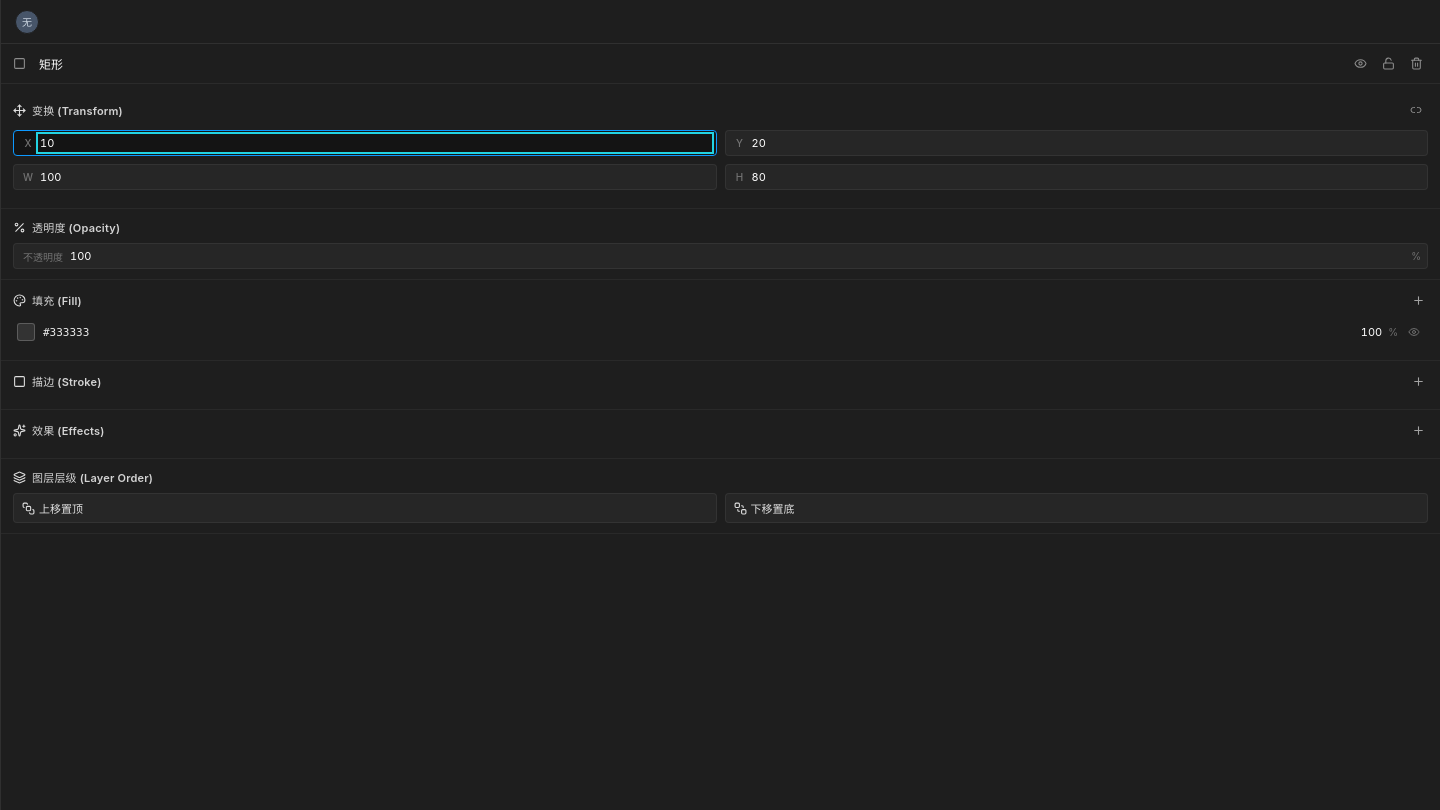
it: InspectorPanel › commits numeric transform edits when Enter blurs the input
Replace the text in the number field named "X 坐标" with "-30" at (375, 143), box x1=40 y1=136 x2=710 y2=150
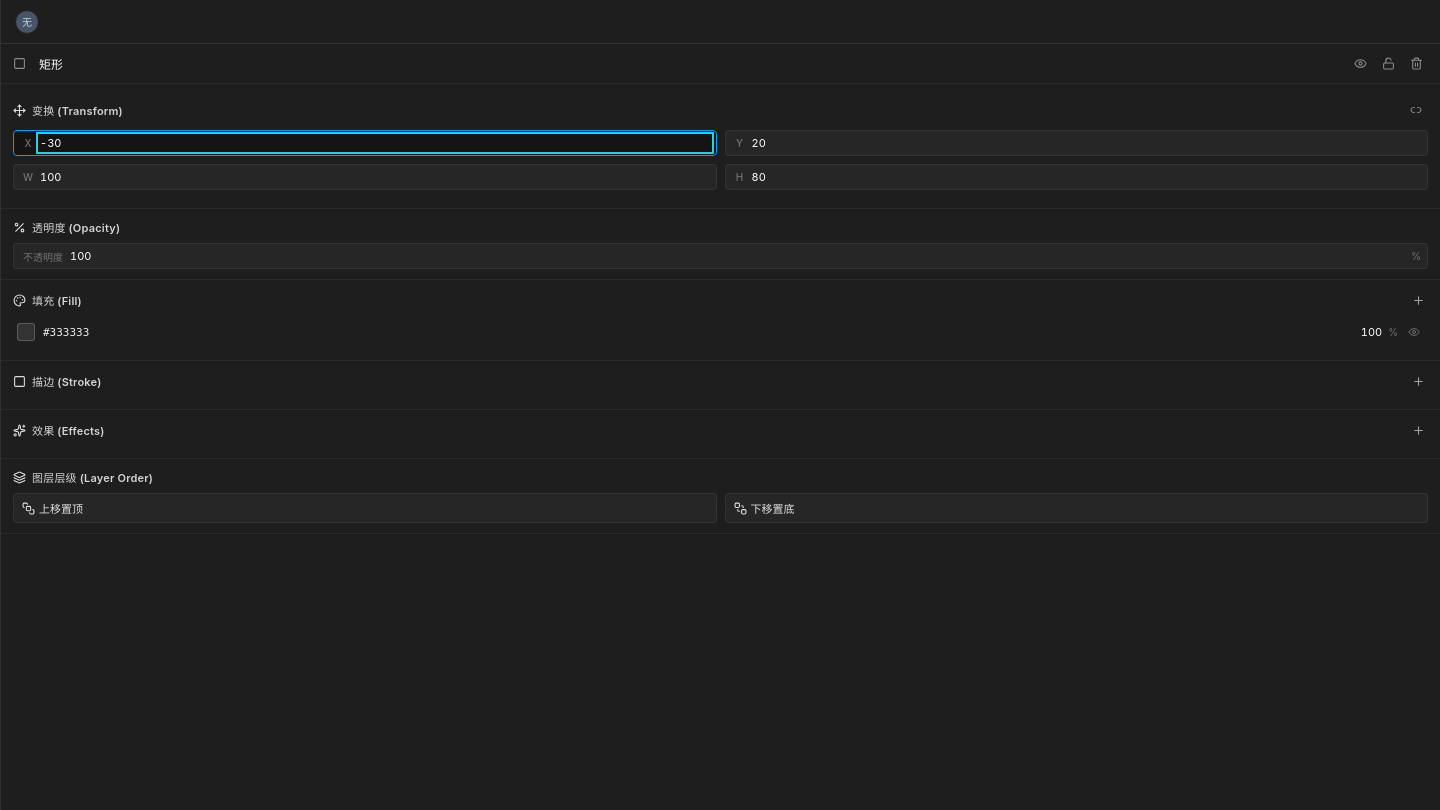
Press Enter in the number field named "X 坐标", box x1=40 y1=136 x2=710 y2=150
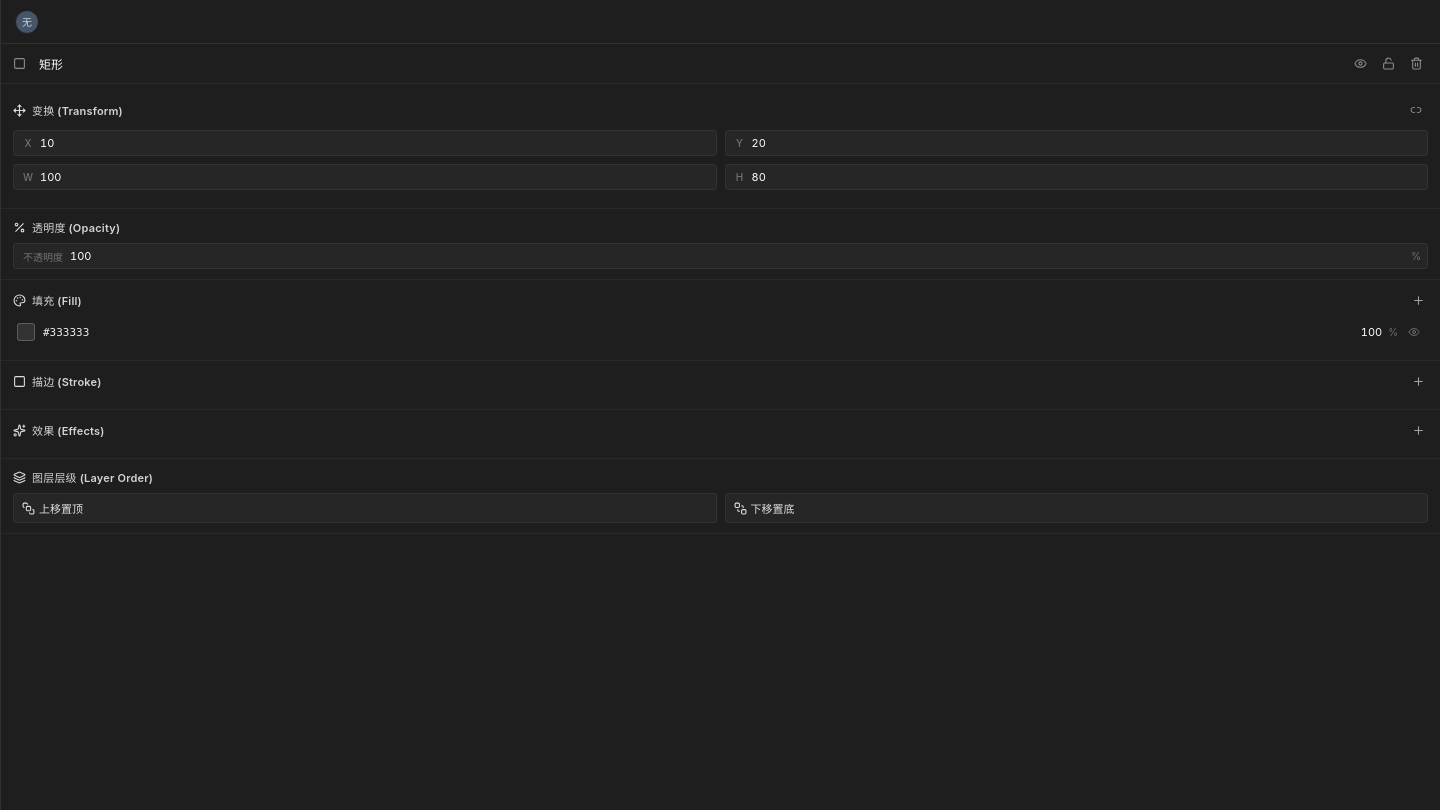
Check: the number field named "X 坐标" holds "10", box x1=40 y1=136 x2=710 y2=150
